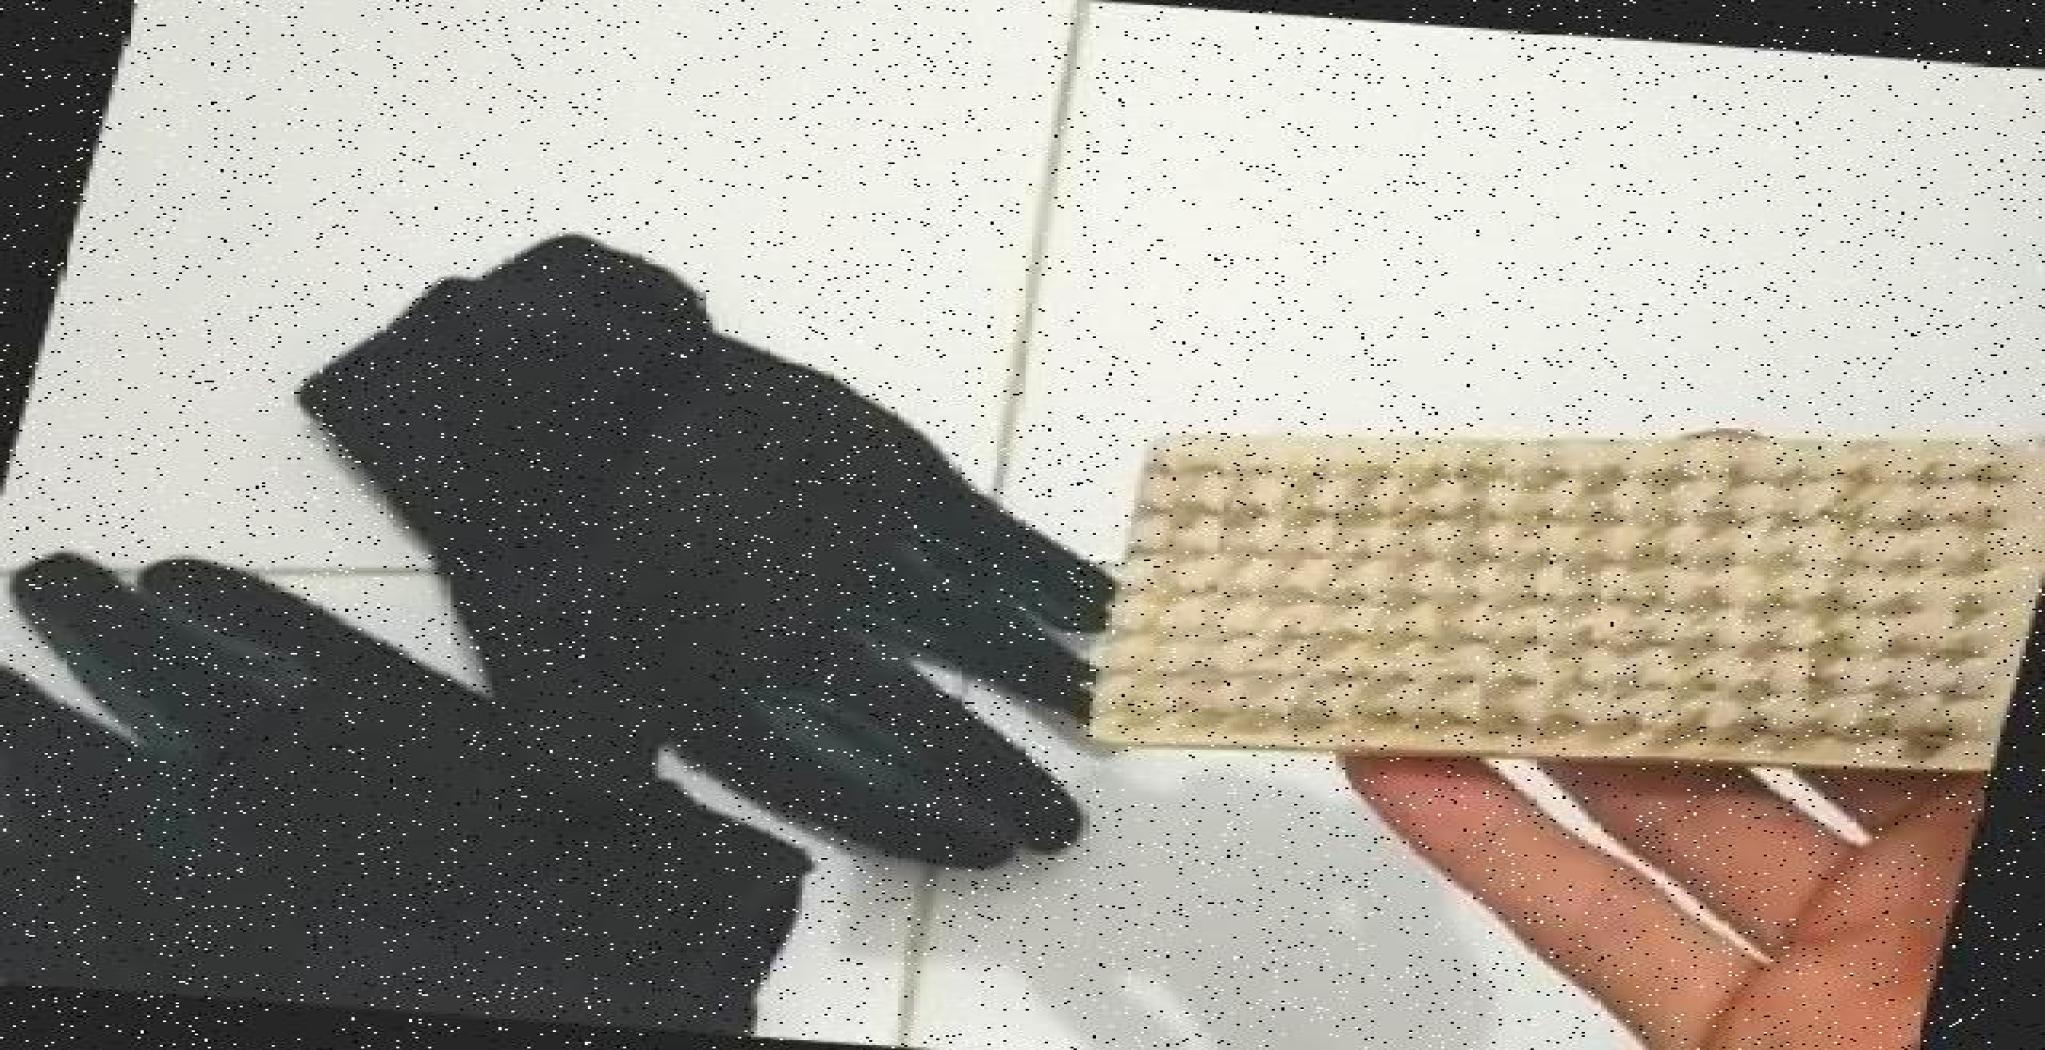not-gloved: (1351, 457, 2045, 1050)
